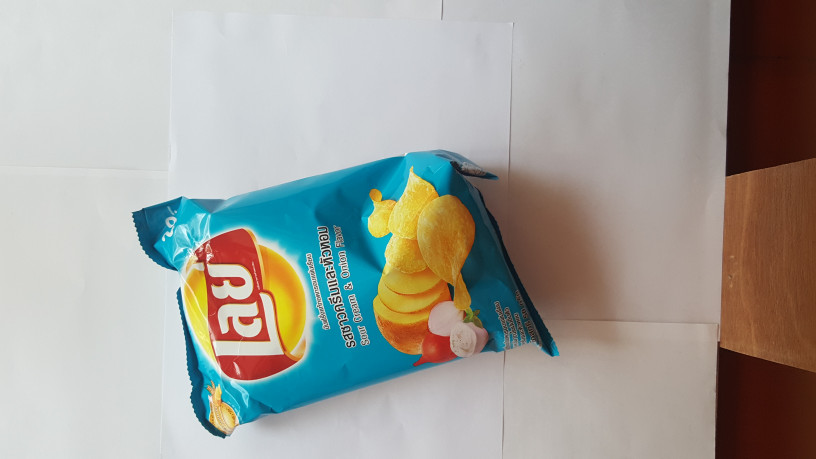lays-onion: (117, 151, 558, 443)
